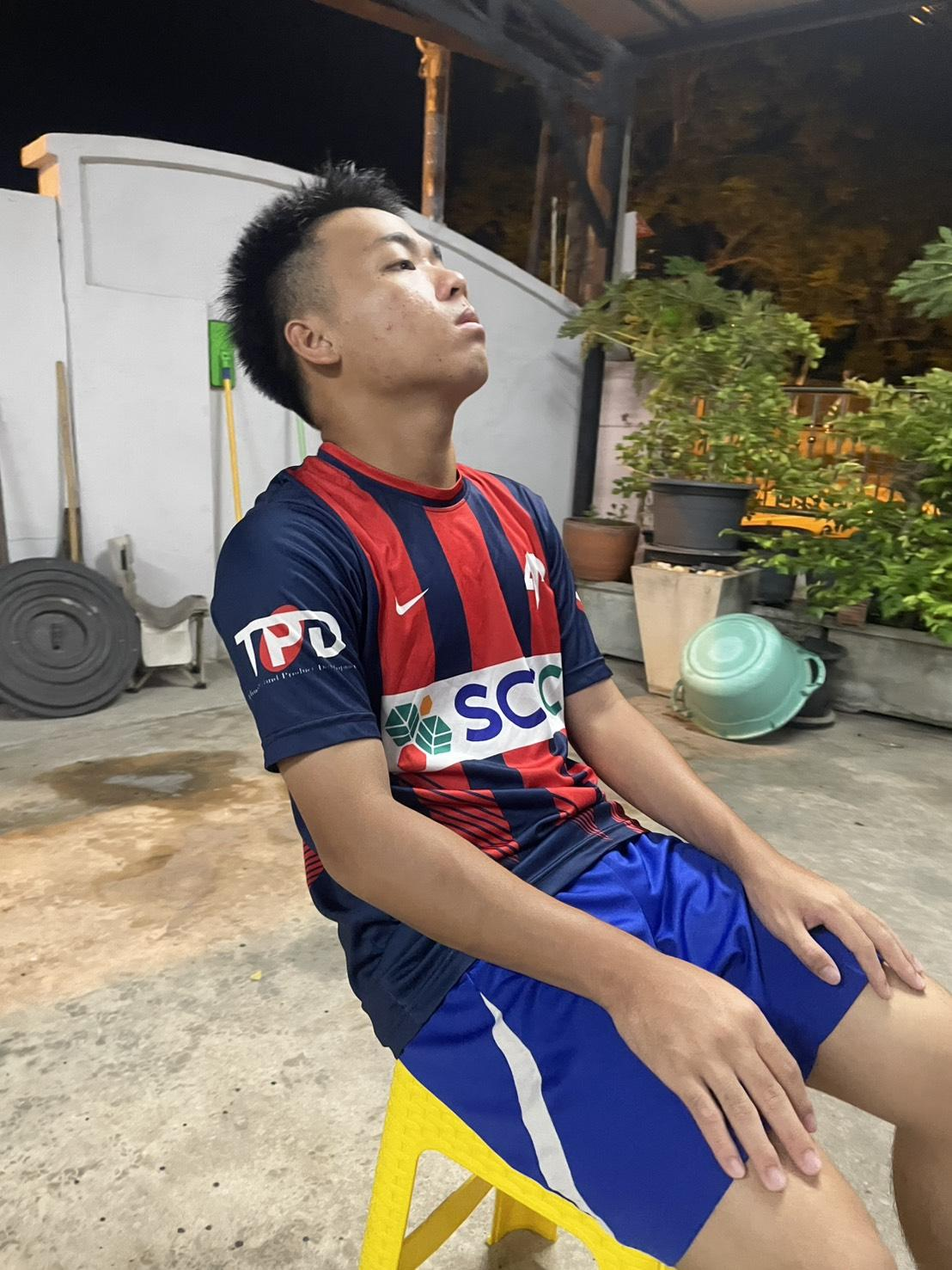BadPosture: (211, 163, 951, 1269)
